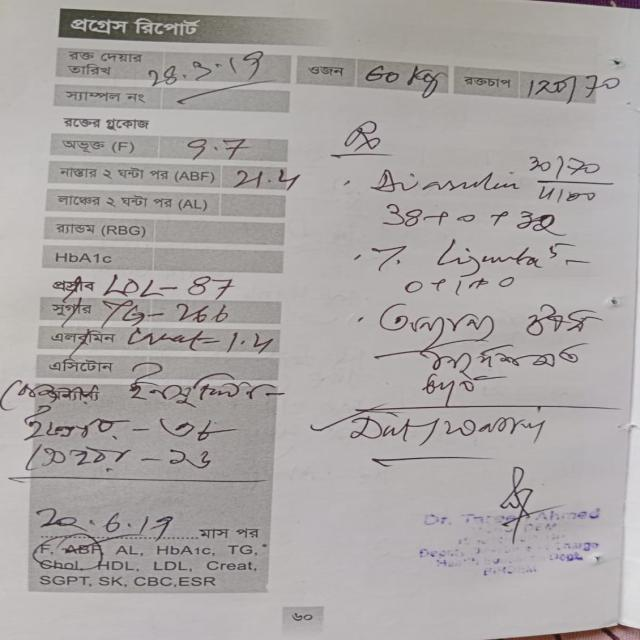Diasulin: (358, 162, 533, 204)
Lijenta: (427, 238, 548, 274)
